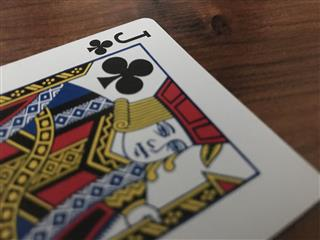JackOfClubs: (1, 16, 320, 240)
